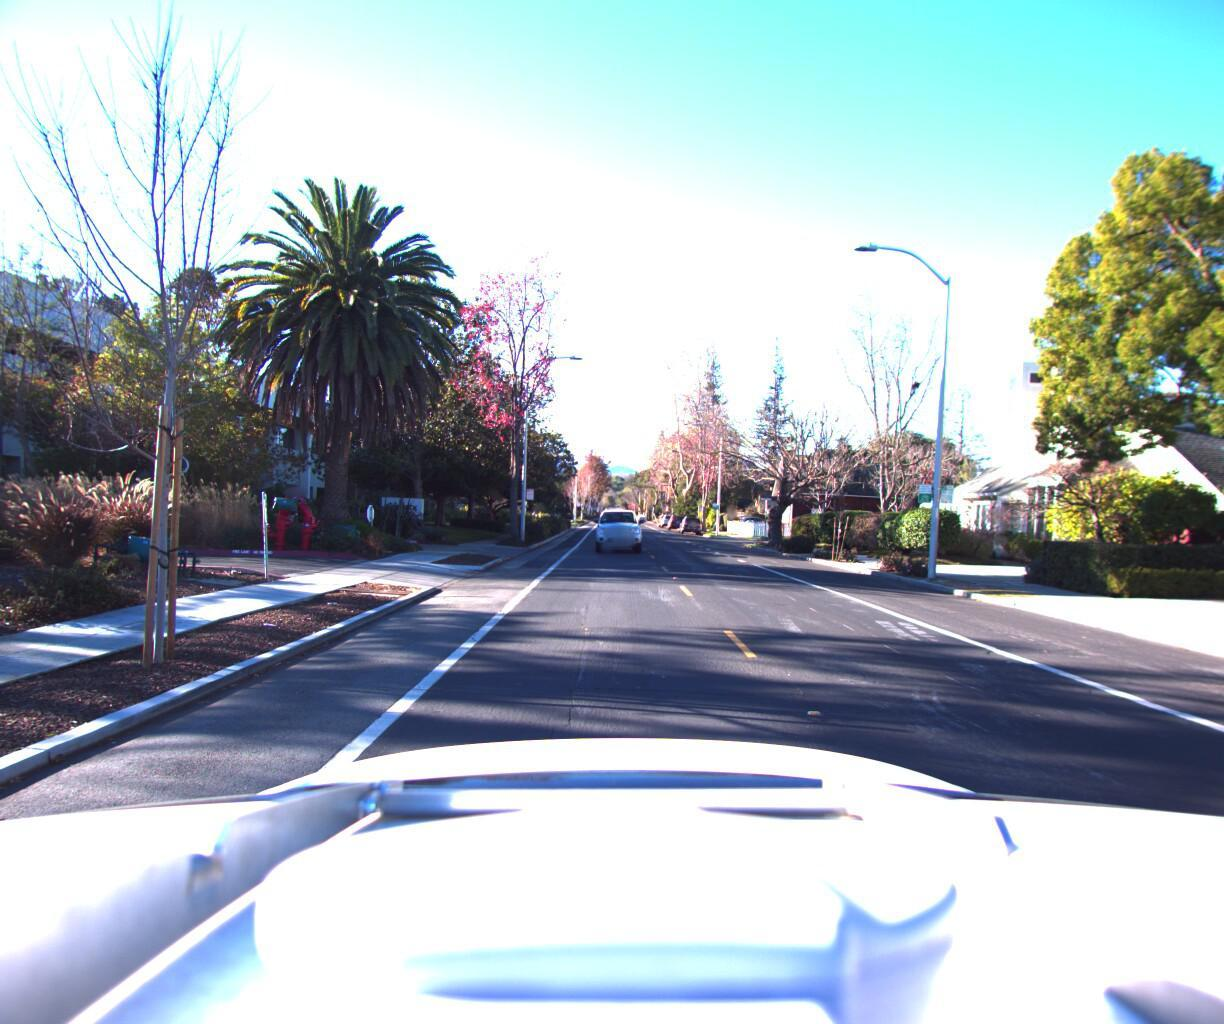car: (590, 508, 641, 559), (677, 519, 702, 540), (666, 518, 684, 535)
